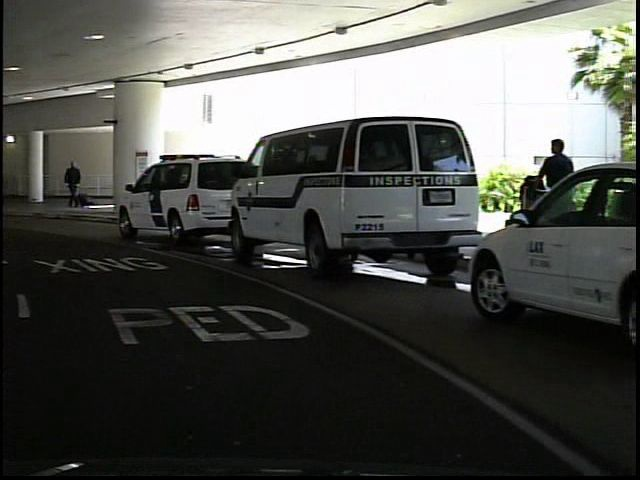person: (532, 134, 575, 262), (58, 155, 84, 214)
